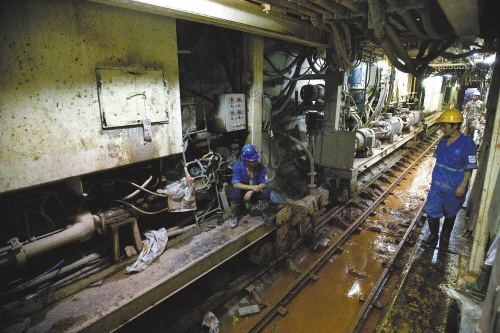blue: (240, 141, 262, 169)
yellow: (436, 106, 465, 138)
